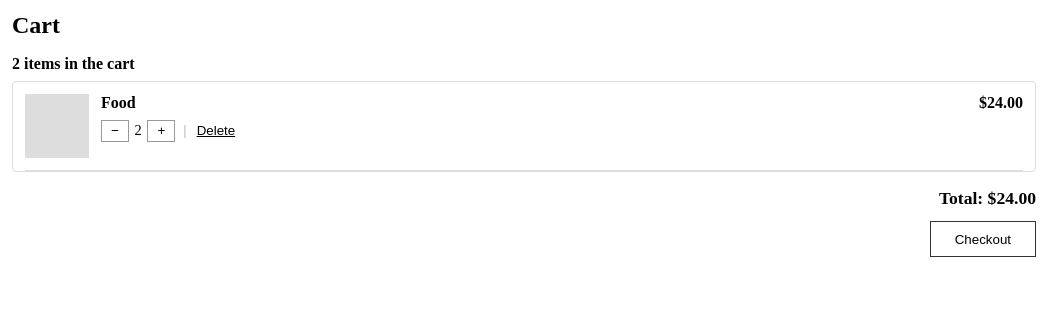
Test case: CartPage › shows error banner when remove fails
This screenshot has width=1048, height=334.
Expected: the text "Food" is shown, [101,94,136,111]
Step 1. Click the button "Delete" → (216, 131), box [194,121,238,141]
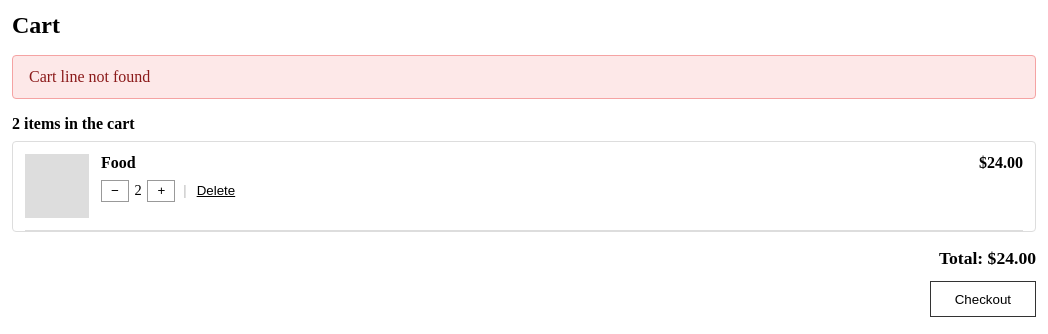
Now the message reads "Cart line not found", box [29,68,150,85]
